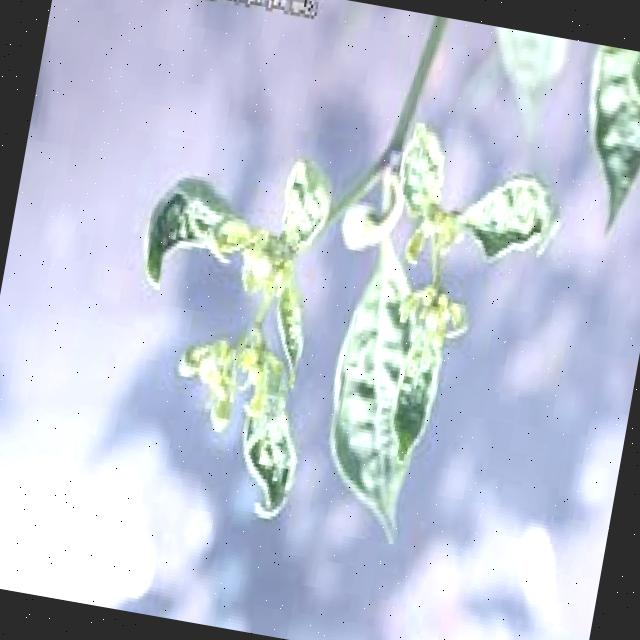leaf curl: (51, 68, 560, 590)
